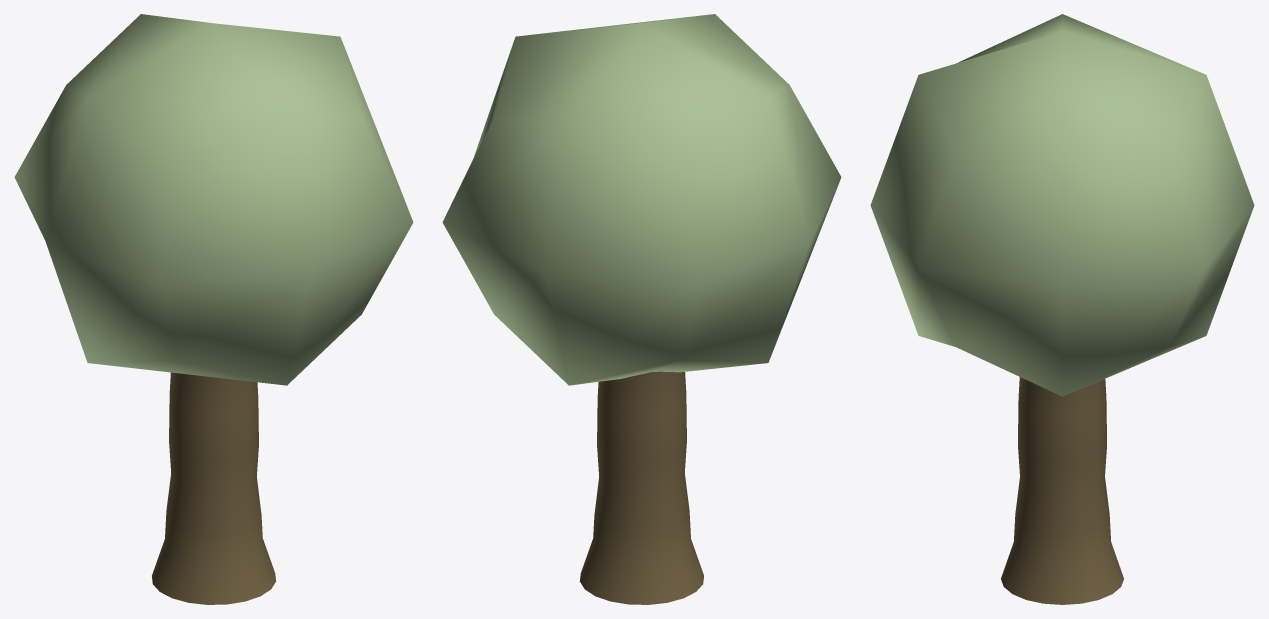
The model's file is tree.fbx.
3 renders of one model, left to right at view 1: azimuth 30°, elevation 25°; view 2: azimuth 150°, elevation 25°; view 3: azimuth 270°, elevation 25°, orthographic.
Parts seen in each view (by area): view 1: treeCom; view 2: treeCom; view 3: treeCom.
Part boxes in pixels (bbox=[...]): treeCom: bbox=[14, 14, 413, 604]; treeCom: bbox=[442, 14, 841, 604]; treeCom: bbox=[870, 14, 1254, 604].
Size of the model in its own units: 2.07 by 3.25 by 2.07.
